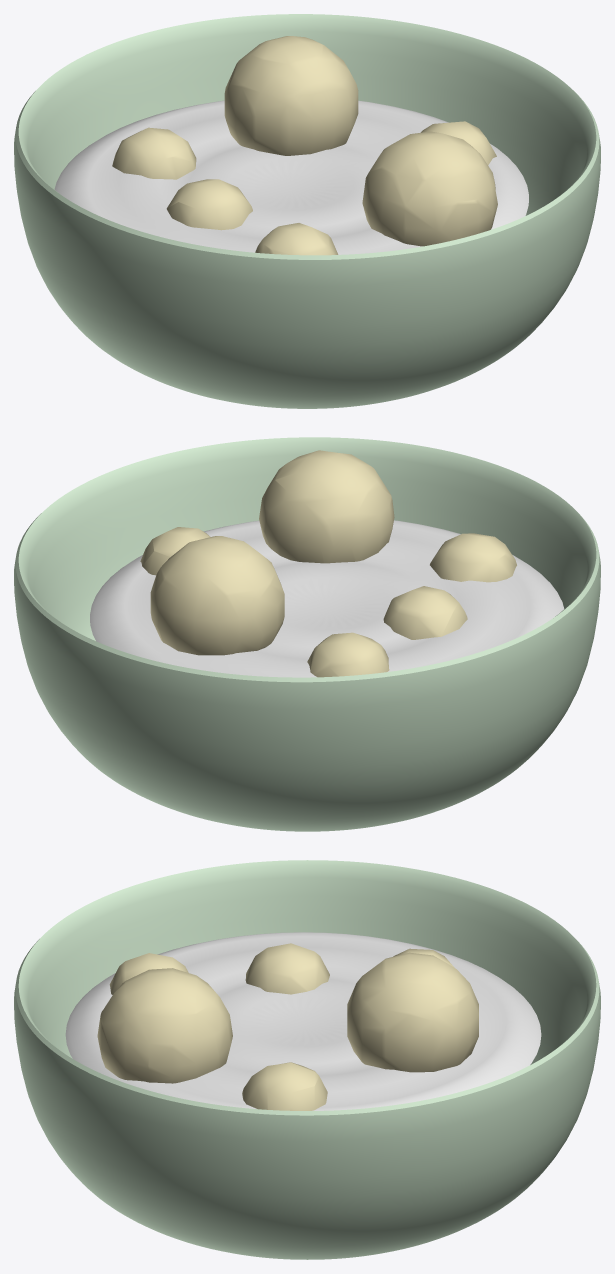
Rendered from Bakso.fbx.
3 renders of one model, top to bottom at view 1: azimuth 30°, elevation 25°; view 2: azimuth 150°, elevation 25°; view 3: azimuth 270°, elevation 25°, orthographic.
Visible parts, largest first — view 1: Cylinder, Mball, Plane; view 2: Cylinder, Mball, Plane; view 3: Cylinder, Plane, Mball.
Part boxes in pixels (x1=…): Cylinder: x1=14, y1=14, x2=600, y2=408; Mball: x1=112, y1=36, x2=497, y2=255; Plane: x1=54, y1=100, x2=528, y2=254; Cylinder: x1=14, y1=437, x2=600, y2=831; Mball: x1=140, y1=450, x2=516, y2=677; Plane: x1=90, y1=520, x2=564, y2=677; Cylinder: x1=14, y1=860, x2=600, y2=1259; Plane: x1=65, y1=932, x2=541, y2=1110; Mball: x1=97, y1=943, x2=478, y2=1110.
Size of the model in its own units: 474 by 235 by 474.
